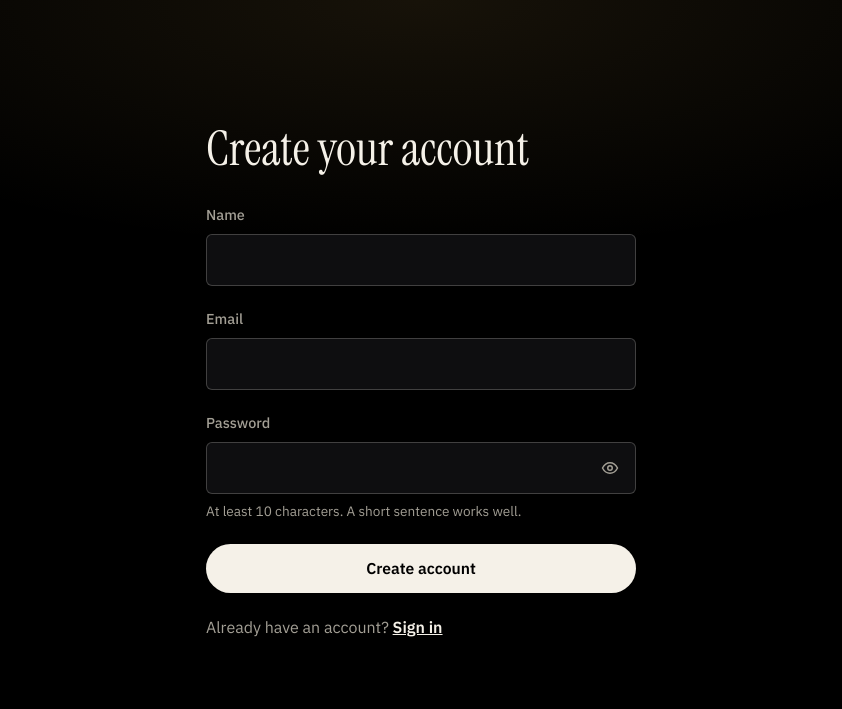
Test: AuthForm › rejects short passwords before calling the server
Type "Aya" into the field labelled "Name" at (421, 260), box [206,234,636,286]
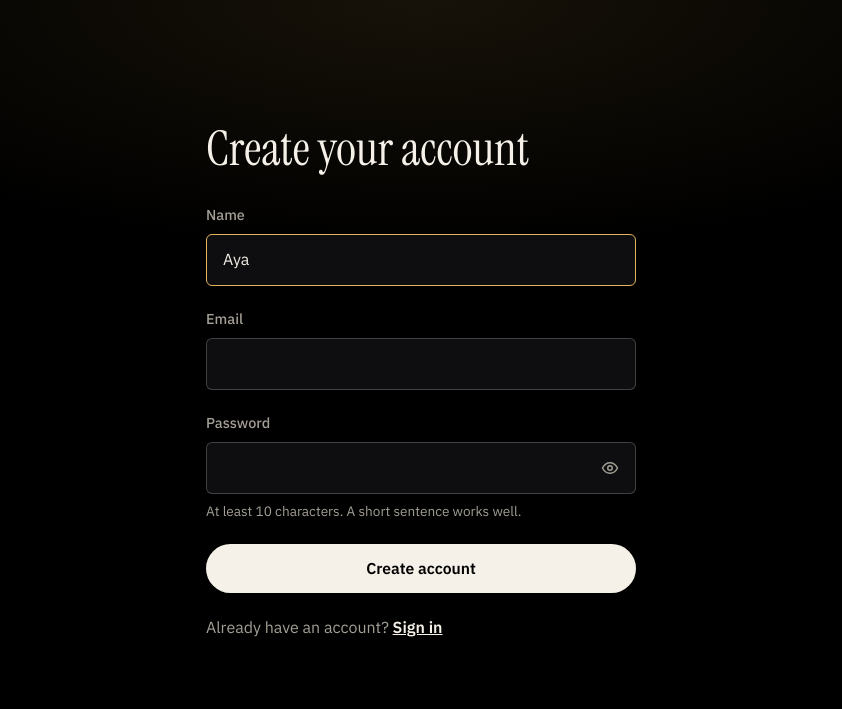
Type "aya@example.com" into the field labelled "Email" at (421, 364), box [206,338,636,390]
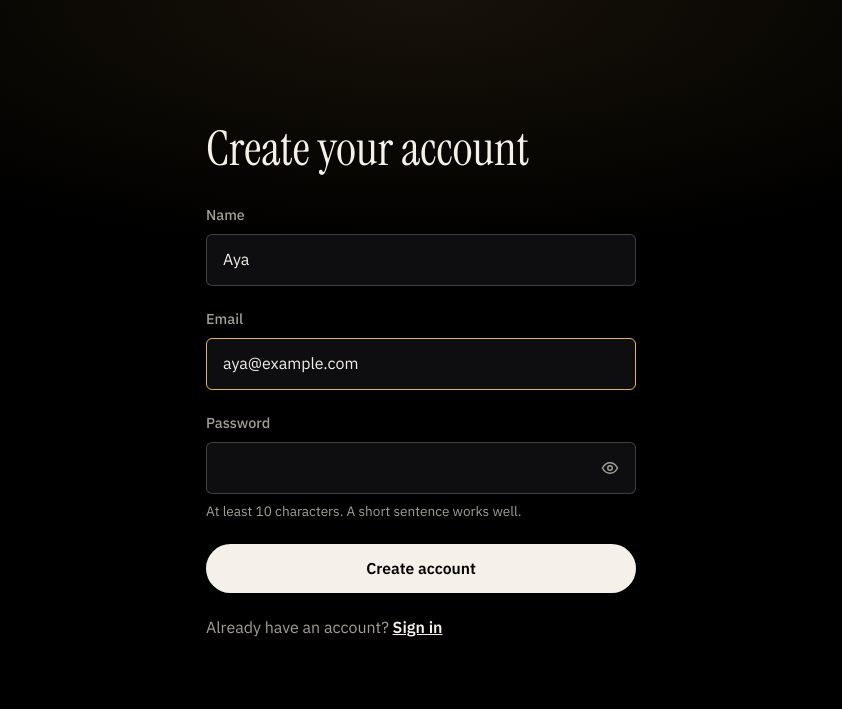
Type "short" into the password field labelled "Password" at (421, 468), box [206,442,636,494]
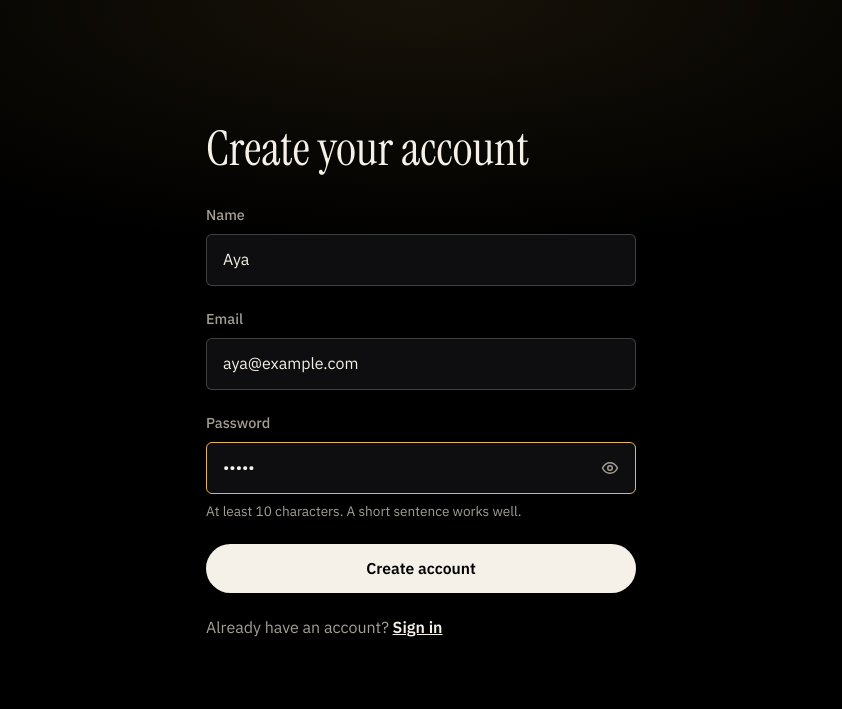
Click the button "Create account" at (421, 569), box [206,544,636,593]
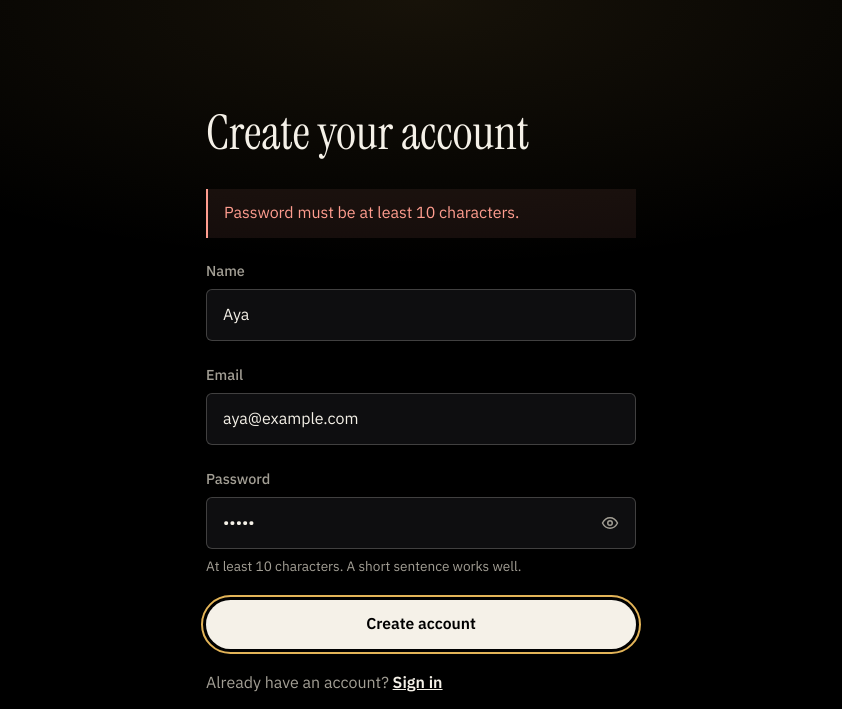
Expected: the message shows "at least 10 characters", [224,201,519,225]
